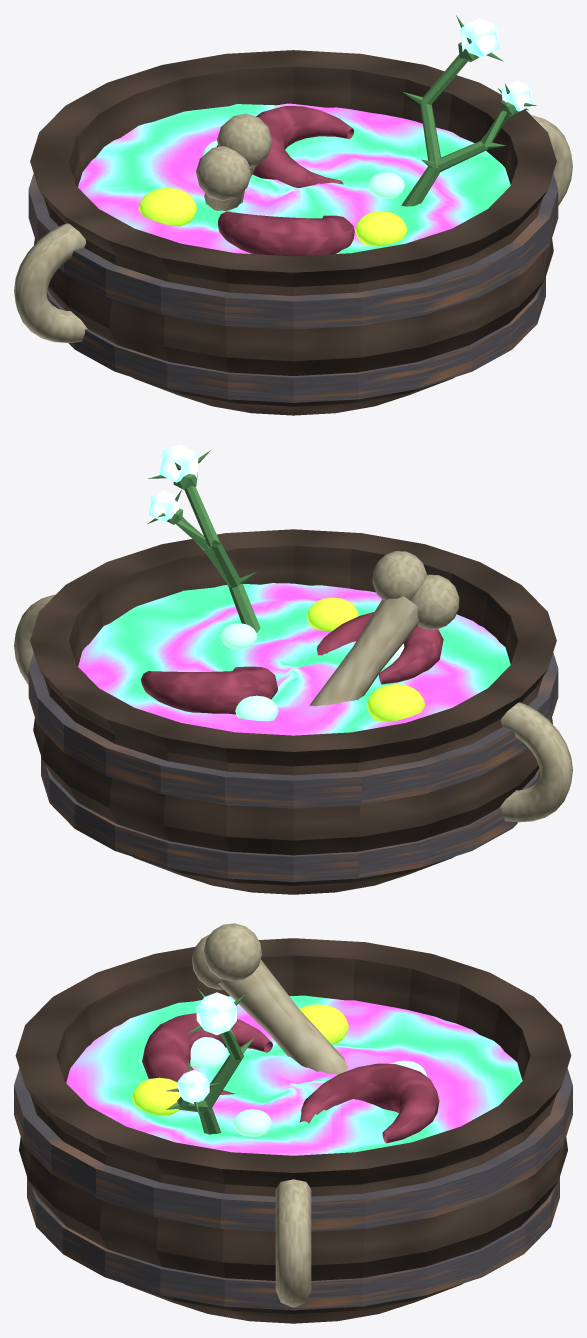
The model's file is FoodNecroSoup.fbx.
3 renders of one model, top to bottom at view 1: azimuth 30°, elevation 25°; view 2: azimuth 150°, elevation 25°; view 3: azimuth 270°, elevation 25°, orthographic. The views are drawn at different scales.
Visible parts, largest first — view 1: FoodNecroSoup; view 2: FoodNecroSoup; view 3: FoodNecroSoup.
Part boxes in pixels (<box>): FoodNecroSoup: <box>14,15,572,415</box>; FoodNecroSoup: <box>14,444,572,894</box>; FoodNecroSoup: <box>14,923,572,1323</box>.
Bounding box in the file's own units: 41.4 × 22.69 × 34.2.
1 material, 1 textured.
